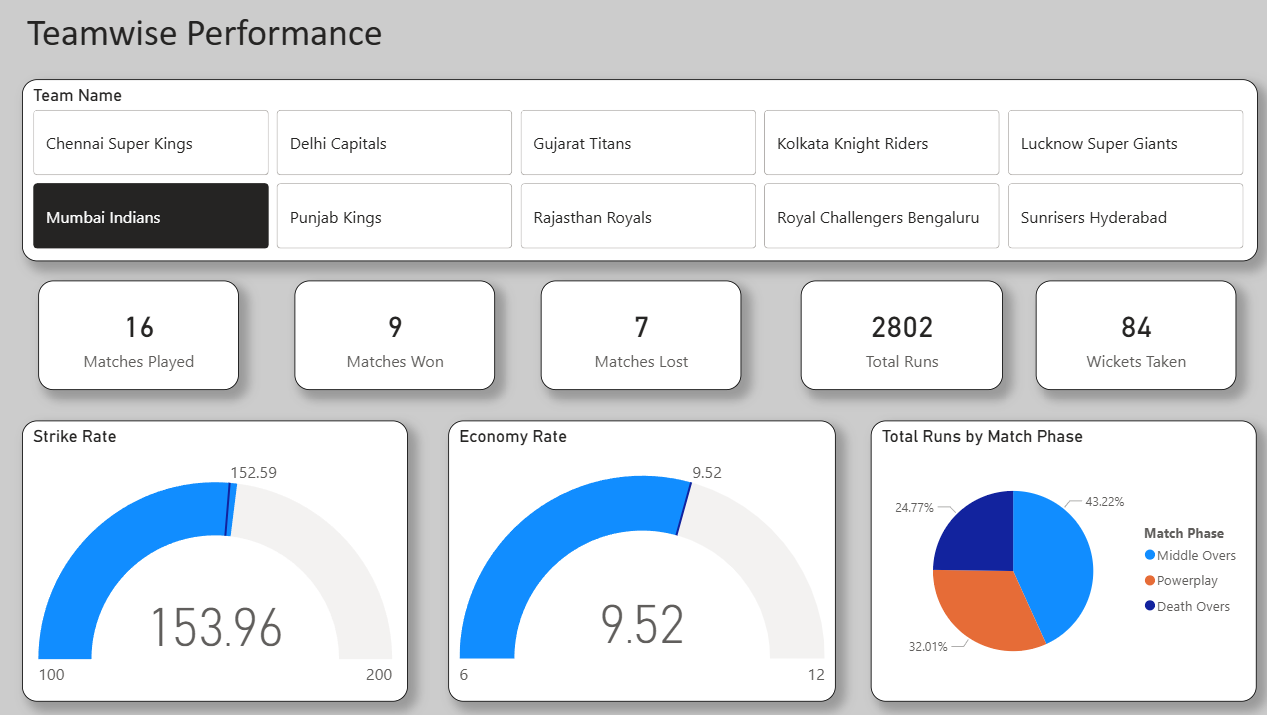

Layout of this report page (visuals, bound fields, positions):
{"tool":"powerbi","page":{"name":"Team","canvas":[1280,720],"ordinal":0},"visuals":[{"type":"advancedSlicerVisual","title":"Team Name","fields":{"Values":["Teams.Team_Name"]},"box":[24.2,85.5,1227.3,181],"z":0},{"type":"card","fields":{"Values":["_Key Measures.Total Runs"]},"box":[798.2,285,201,109],"z":1000},{"type":"card","fields":{"Values":["_Key Measures.Wickets Taken"]},"box":[1032,285,199.6,109],"z":2000},{"type":"card","fields":{"Values":["_Key Measures.Matches Played"]},"box":[41.3,285,199.6,109],"z":3000},{"type":"card","fields":{"Values":["_Key Measures.Matches Won"]},"box":[295.1,285,199.6,109],"z":4000},{"type":"card","fields":{"Values":["_Key Measures.Matches Lost"]},"box":[540.2,285,199.6,109],"z":5000},{"type":"gauge","title":"Strike Rate","fields":{"Y":["_Key Measures.Strike Rate"],"TargetValue":["_Key Measures.Target Strike Rate"],"MinValue":["_Key Measures.Min Strike Rate"],"MaxValue":["_Key Measures.Max Strike Rate"]},"box":[24.2,424.8,383.4,279.4],"z":6000},{"type":"gauge","title":"Economy Rate","fields":{"Y":["_Key Measures.Economy Rate"],"MaxValue":["_Key Measures.Max Eco Rate"],"MinValue":["_Key Measures.Min Eco Rate"],"TargetValue":["_Key Measures.Target Economy Rate"]},"box":[447.6,424.8,384.9,279.4],"z":7000},{"type":"pieChart","fields":{"Category":["Deliveries.Match Phase"],"Y":["_Key Measures.Total Runs"]},"box":[868.1,424.8,383.4,279.4],"z":8000},{"type":"textbox","box":[24.2,11.4,383.4,58.4],"z":9000}]}

Visuals, with their boxes in screenshot pixels (x1, y1, x2, y2), scaled from the page's 1280x720 canvas onto the 1267x715 screenshot:
"Team Name" advancedSlicerVisual: {"x1": 24, "y1": 85, "x2": 1239, "y2": 265}
card - _Key Measures.Total Runs: {"x1": 790, "y1": 283, "x2": 989, "y2": 391}
card - _Key Measures.Wickets Taken: {"x1": 1022, "y1": 283, "x2": 1219, "y2": 391}
card - _Key Measures.Matches Played: {"x1": 41, "y1": 283, "x2": 238, "y2": 391}
card - _Key Measures.Matches Won: {"x1": 292, "y1": 283, "x2": 490, "y2": 391}
card - _Key Measures.Matches Lost: {"x1": 535, "y1": 283, "x2": 732, "y2": 391}
"Strike Rate" gauge: {"x1": 24, "y1": 422, "x2": 403, "y2": 699}
"Economy Rate" gauge: {"x1": 443, "y1": 422, "x2": 824, "y2": 699}
pieChart - Deliveries.Match Phase x _Key Measures.Total Runs: {"x1": 859, "y1": 422, "x2": 1239, "y2": 699}
textbox: {"x1": 24, "y1": 11, "x2": 403, "y2": 69}
